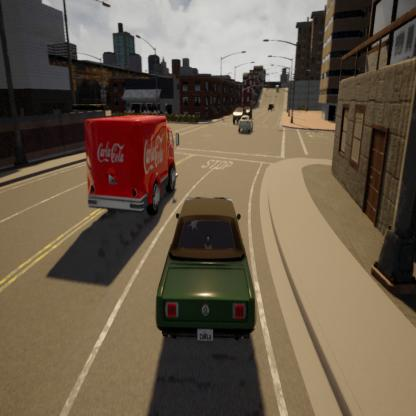Cars: (148, 183, 268, 355), (73, 96, 184, 223), (236, 111, 261, 138), (230, 101, 245, 126), (266, 97, 276, 116)
